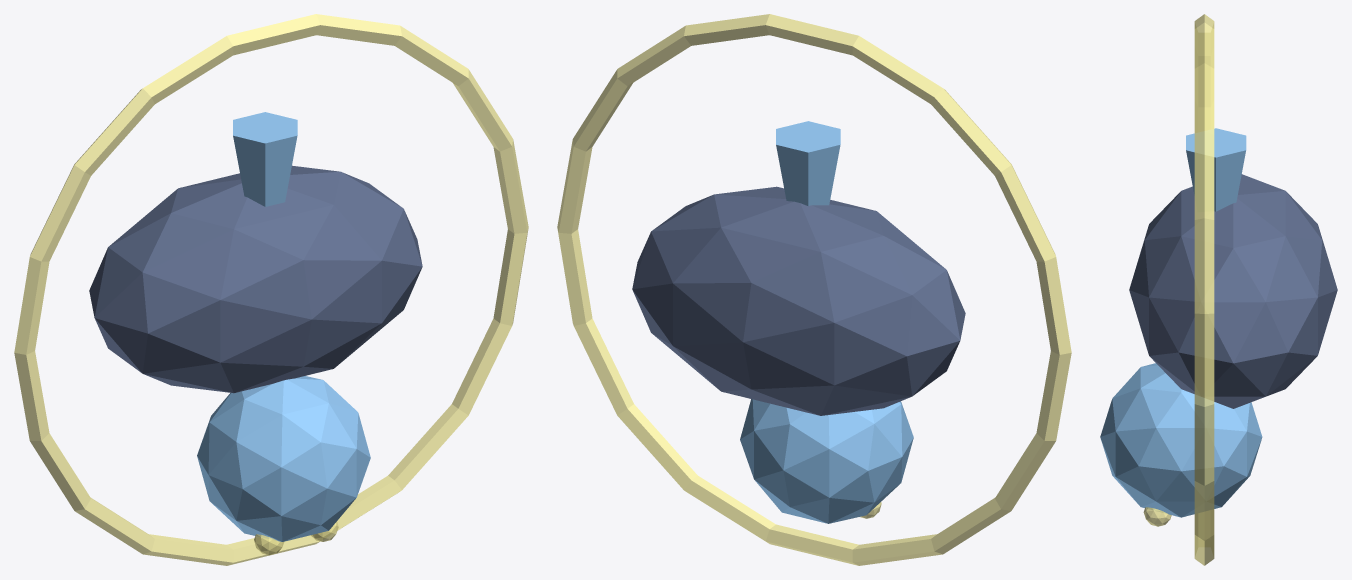
File: 08_pet_companion_proc.glb
3 renders of one model, left to right at view 1: azimuth 30°, elevation 25°; view 2: azimuth 150°, elevation 25°; view 3: azimuth 270°, elevation 25°, orthographic. The views are drawn at different scales.
Visible parts, largest first — view 1: pet_body, bonus_proc_ring, pet_head, tail_or_antenna; view 2: pet_body, bonus_proc_ring, pet_head, tail_or_antenna; view 3: pet_body, pet_head, bonus_proc_ring, tail_or_antenna, pet_eye_r.
Boxes of the visible parts, x1,y1,x2,y2 form: pet_body: (89, 165, 422, 393); bonus_proc_ring: (14, 14, 528, 565); pet_head: (197, 376, 370, 541); tail_or_antenna: (233, 112, 297, 206); pet_body: (632, 186, 965, 415); bonus_proc_ring: (557, 14, 1071, 565); pet_head: (740, 399, 913, 523); tail_or_antenna: (776, 121, 840, 206); pet_body: (1129, 174, 1337, 408); pet_head: (1100, 363, 1262, 517); bonus_proc_ring: (1194, 14, 1214, 565); tail_or_antenna: (1186, 128, 1246, 211); pet_eye_r: (1143, 507, 1171, 526).
Size of the model in its own units: 0.956 by 0.9415 by 0.41.
